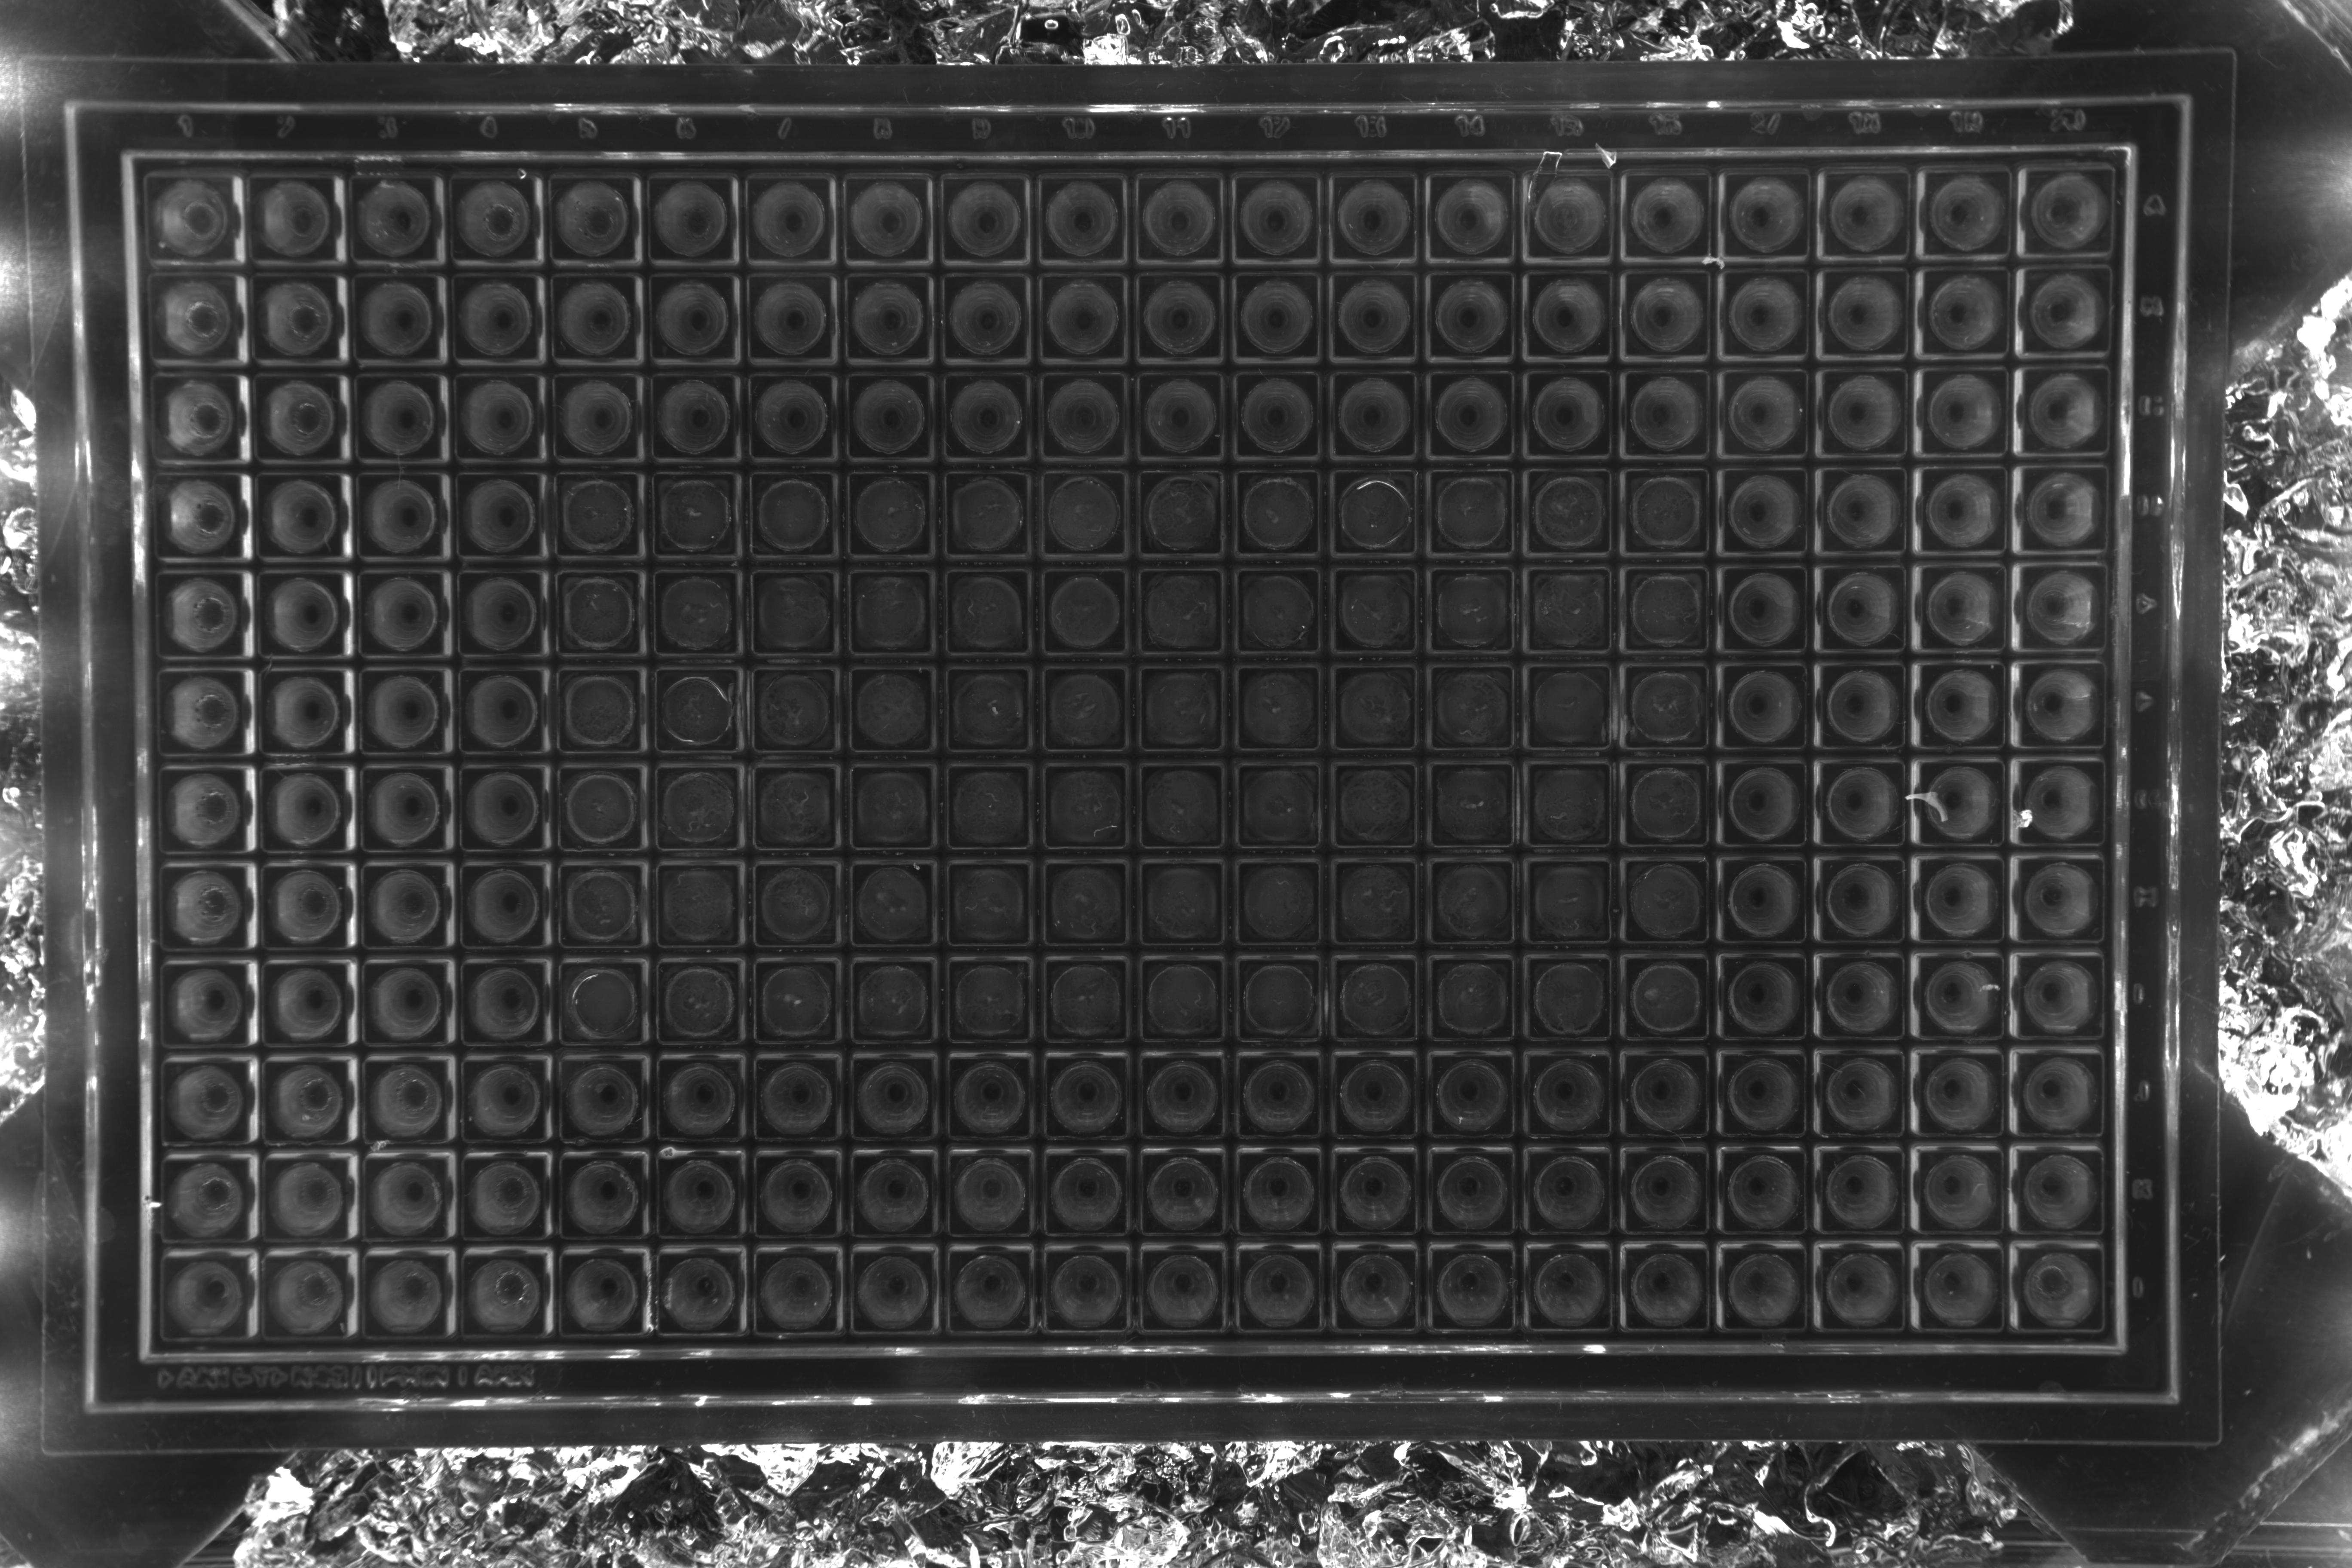WM_well: (595, 1020, 684, 1108), (789, 1213, 878, 1300), (1864, 231, 1953, 318), (205, 1218, 292, 1305), (401, 1022, 488, 1109), (595, 826, 682, 913), (693, 826, 780, 913), (882, 142, 969, 229), (884, 436, 971, 523), (983, 1211, 1071, 1298), (1078, 142, 1165, 229), (1080, 1017, 1167, 1104), (1176, 142, 1263, 229), (1272, 1017, 1360, 1104), (1370, 630, 1458, 717), (1468, 334, 1556, 422), (1564, 822, 1652, 910), (1566, 432, 1654, 520), (1568, 334, 1655, 422), (1760, 920, 1848, 1008), (1766, 231, 1853, 318), (1860, 724, 1948, 812)
